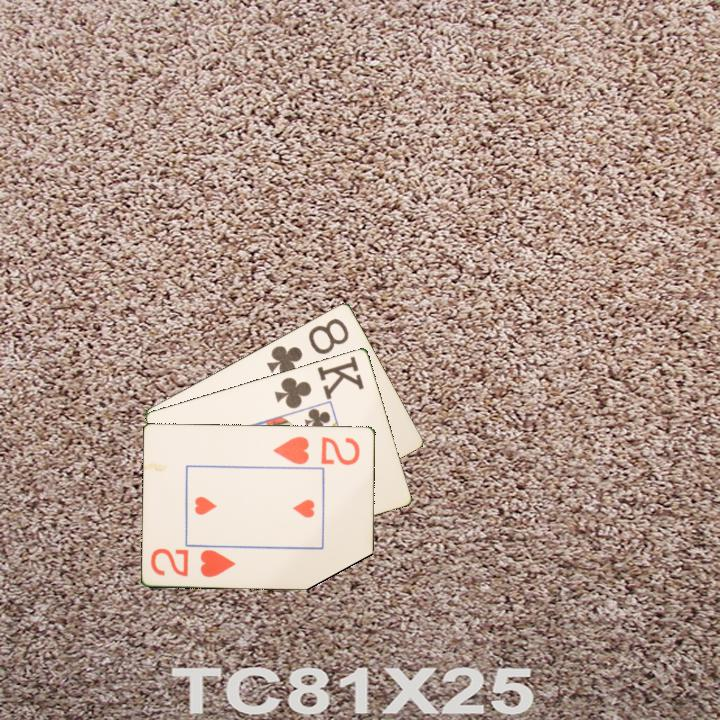2h: (147, 545, 239, 580), (270, 433, 363, 467)
8c: (263, 314, 352, 379)
Kc: (271, 352, 367, 411)
